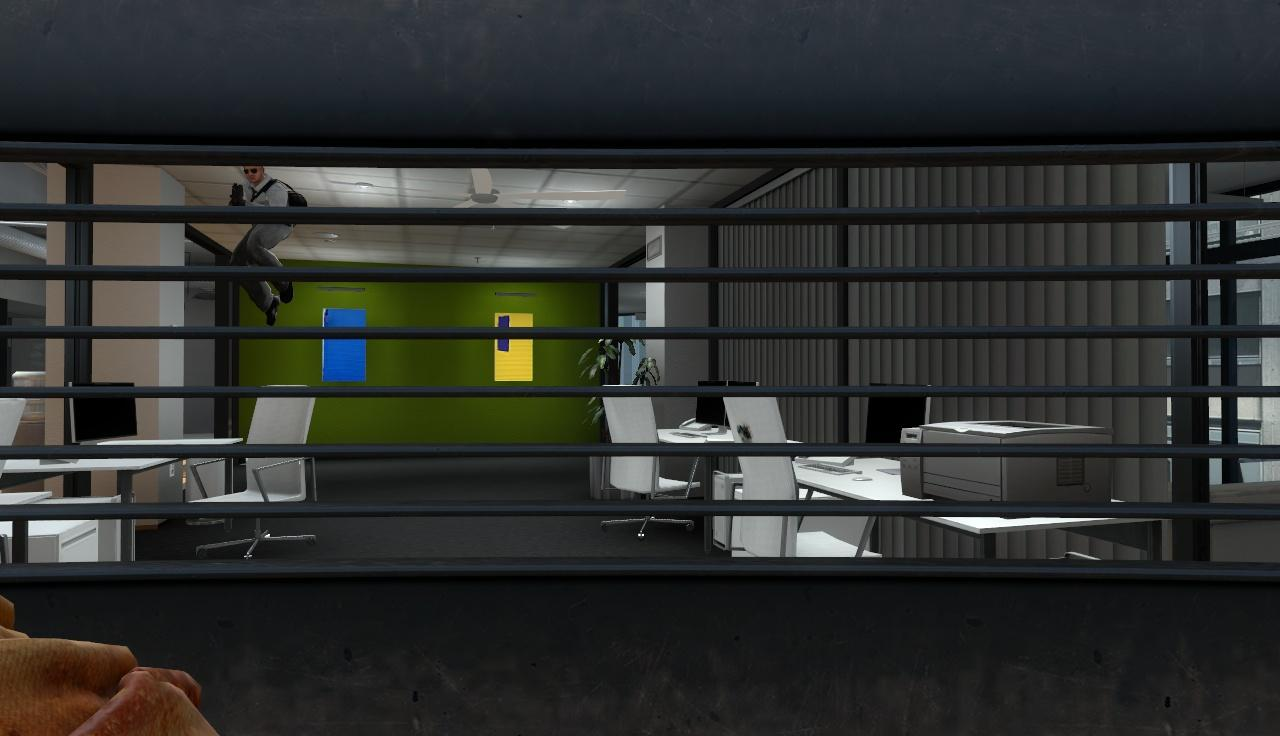tt: (237, 164, 290, 307)
tthead: (243, 165, 265, 184)
